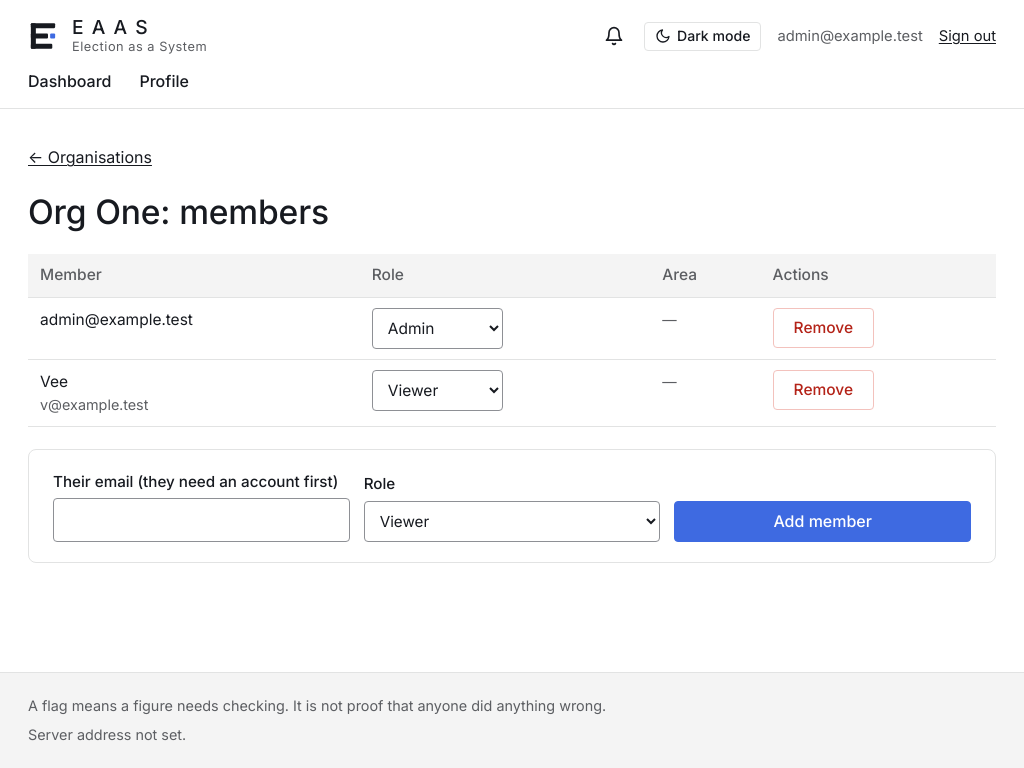
Test: members › lets admins add members and shows server errors clearly
In the field labelled "Their email (they need an account first)": (201, 520) [53,498,350,542], type "new@example.test"
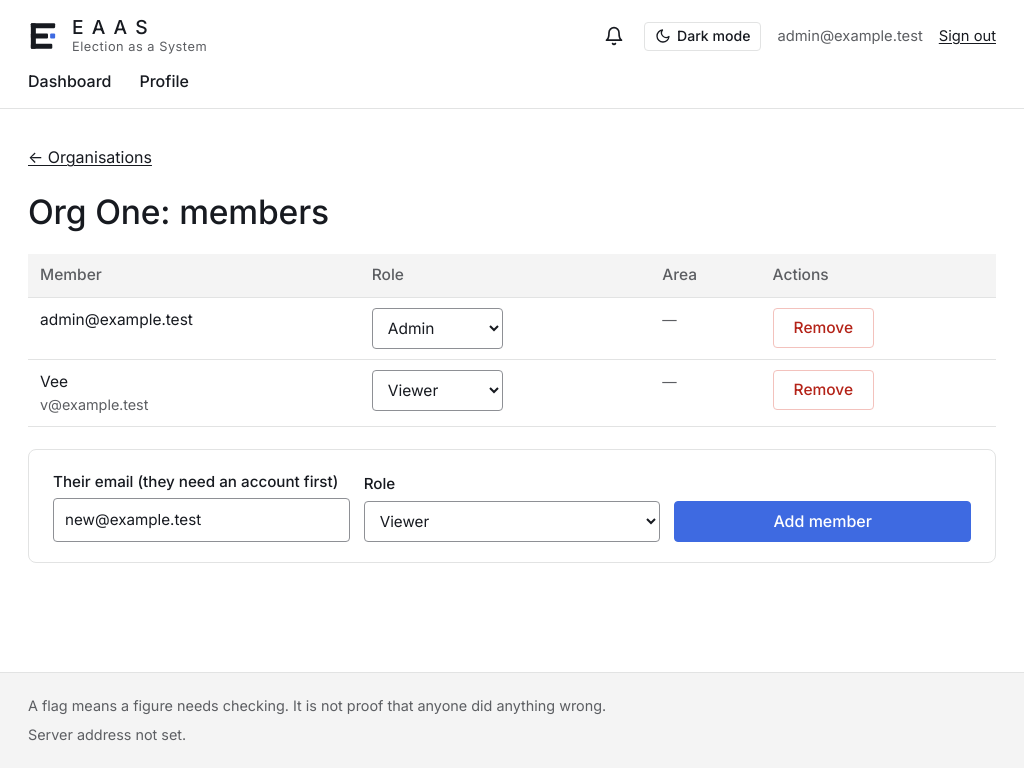
Click the button "Add member": (823, 522) [674,501,971,542]
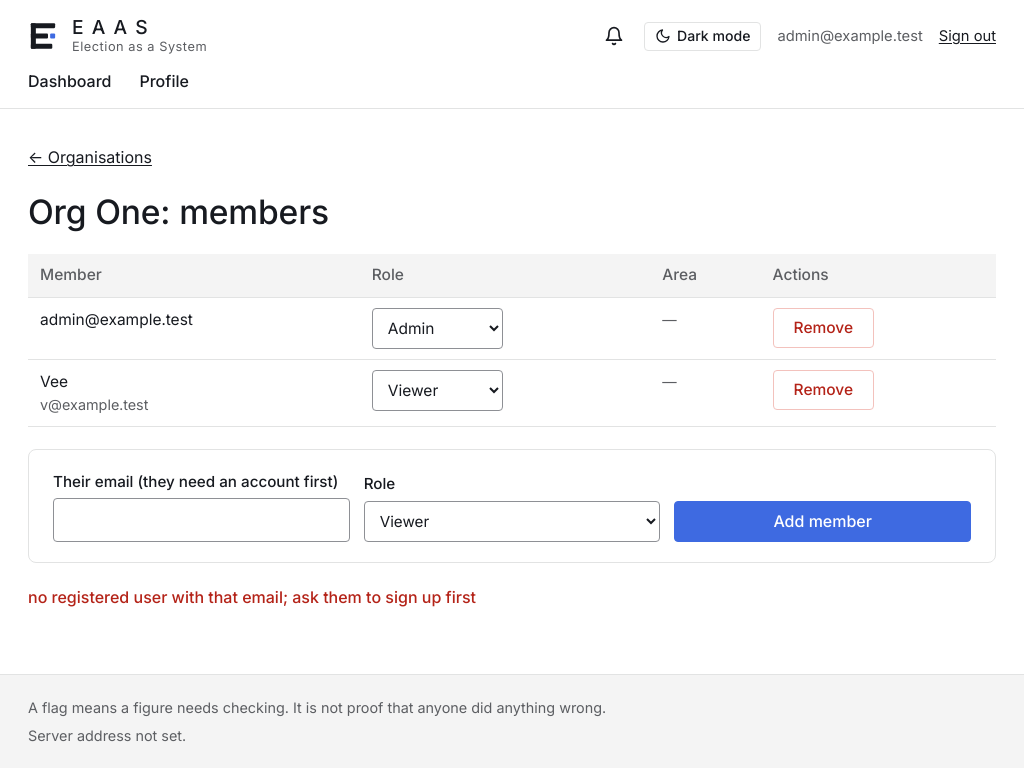
Check: the number of buttons "Remove" is 2, box [772,308,874,348]; [772,370,874,410]
Check: the message shows "ask them to sign up first", box [28,587,476,607]
